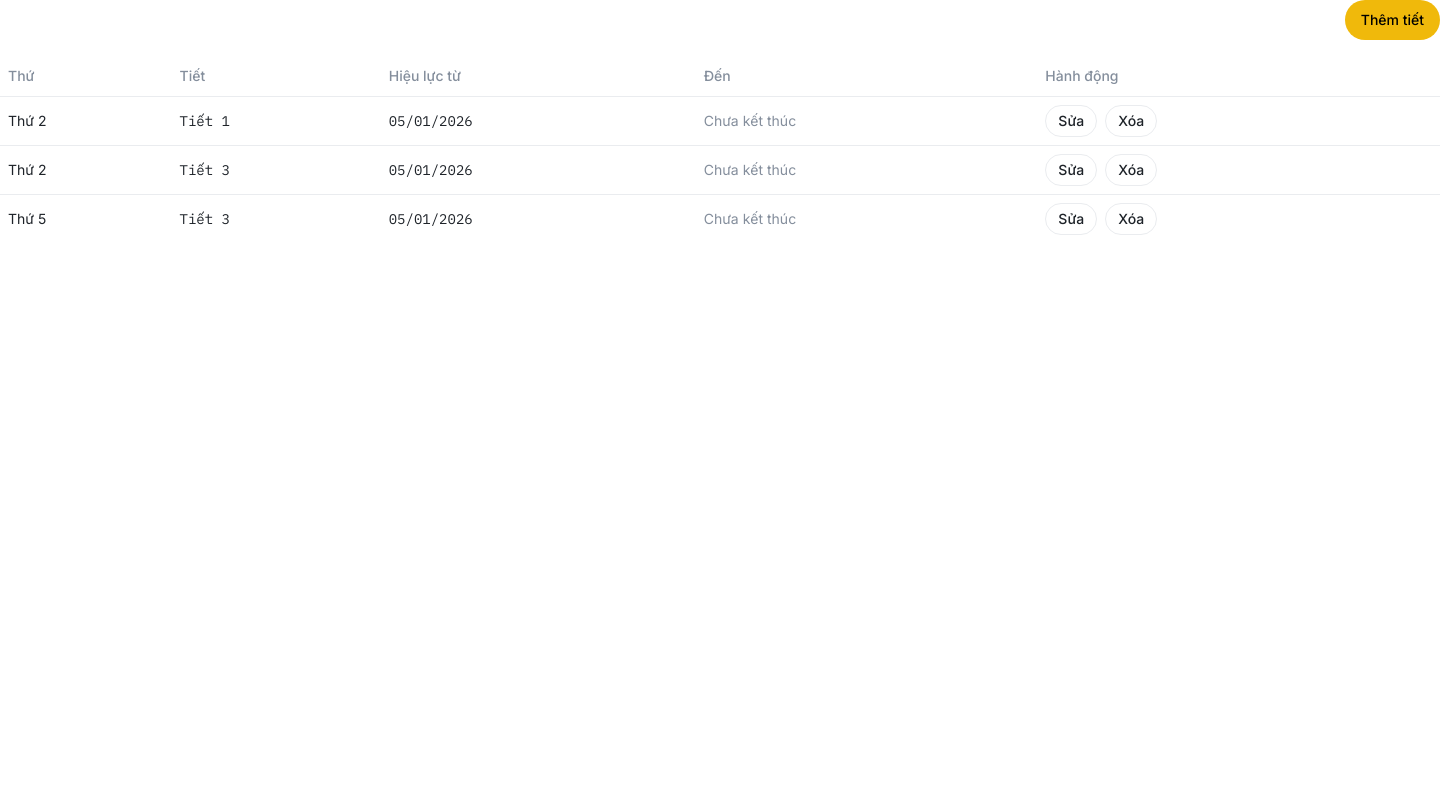
Test: xóa tiết › backend từ chối: hiện nguyên văn message, hộp thoại KHÔNG đóng và nút xác nhận bấm lại được
Click the button "Xóa" in the row of "Tiết 1".
click(1131, 120)  # box [1105,104,1157,136]
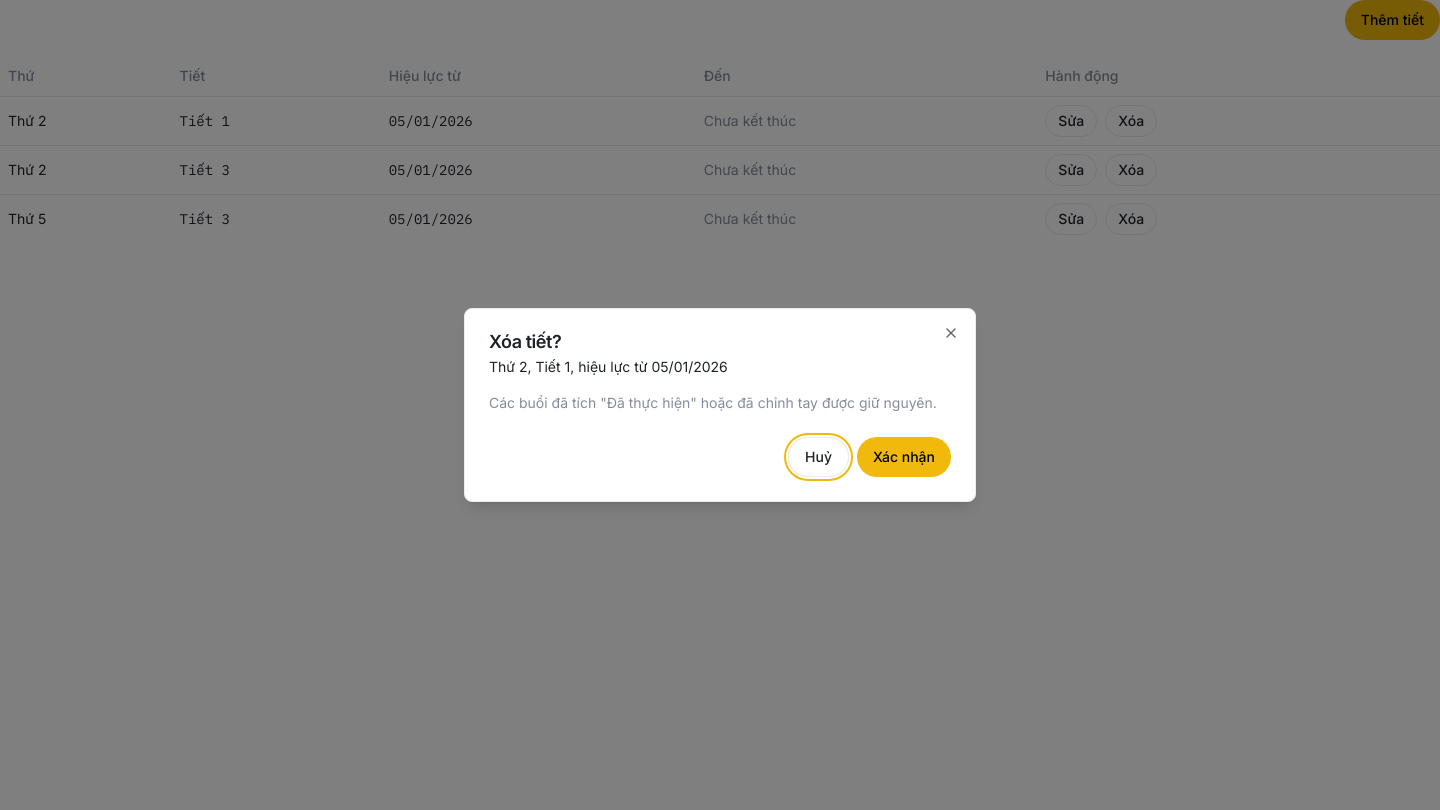
Click the button "Xác nhận".
click(904, 457)  # box [857,437,951,477]
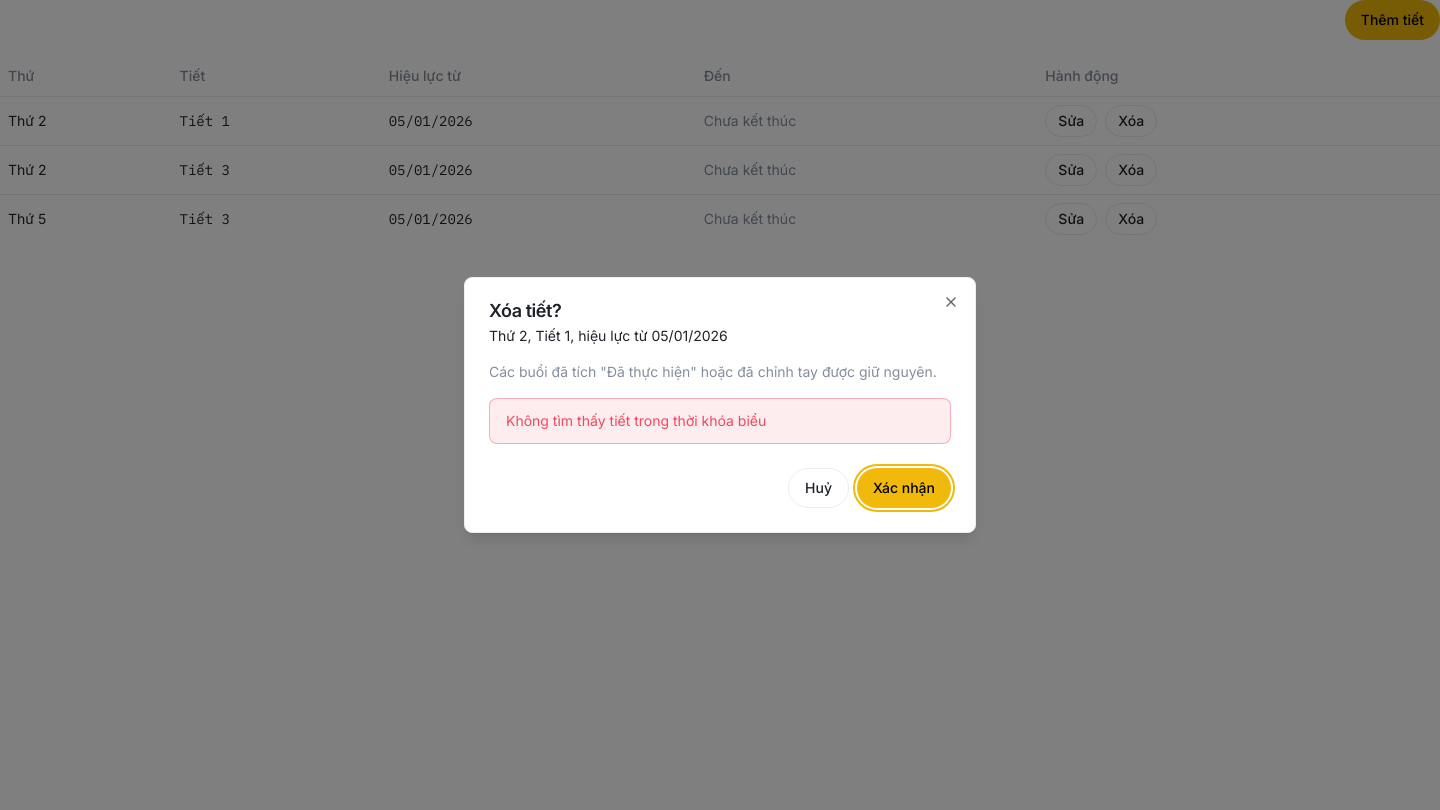
Now the dialog is shown, box [464,277,976,533]
Now the button "Xác nhận" is enabled, box [857,468,951,508]
Now the text "Không tìm thấy tiết trong thời khóa biểu" is shown, box [489,398,951,444]
